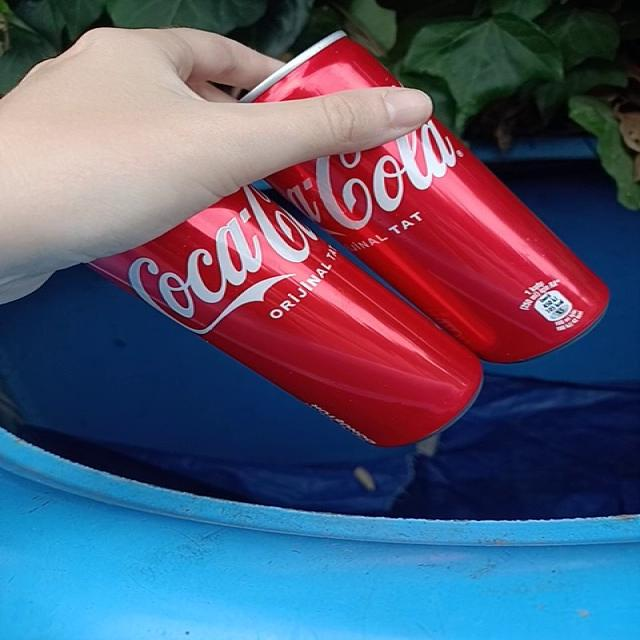bin: (1, 139, 640, 640)
metal: (91, 189, 481, 446), (269, 117, 609, 362), (241, 31, 400, 102)
